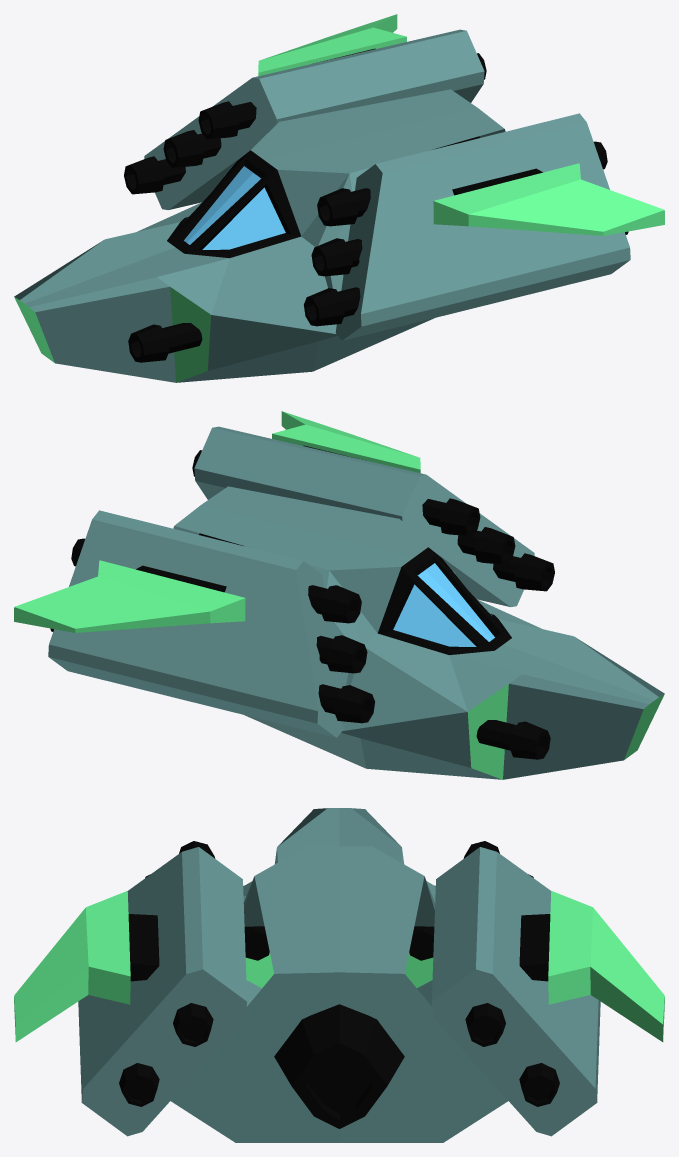
Rendered from gunship5.fbx.
3 views of the same model, one above another, from view 1: azimuth 30°, elevation 25°; view 2: azimuth 150°, elevation 25°; view 3: azimuth 270°, elevation 25° (orthographic). The views are drawn at different scales.
Visible parts, largest first — view 1: Gunship5; view 2: Gunship5; view 3: Gunship5.
Boxes of the visible parts, x1,y1,x2,y2 form: Gunship5: [14, 14, 664, 382]; Gunship5: [14, 411, 664, 779]; Gunship5: [14, 808, 664, 1142].
Bounding box in the file's own units: 577 × 227 × 521.
